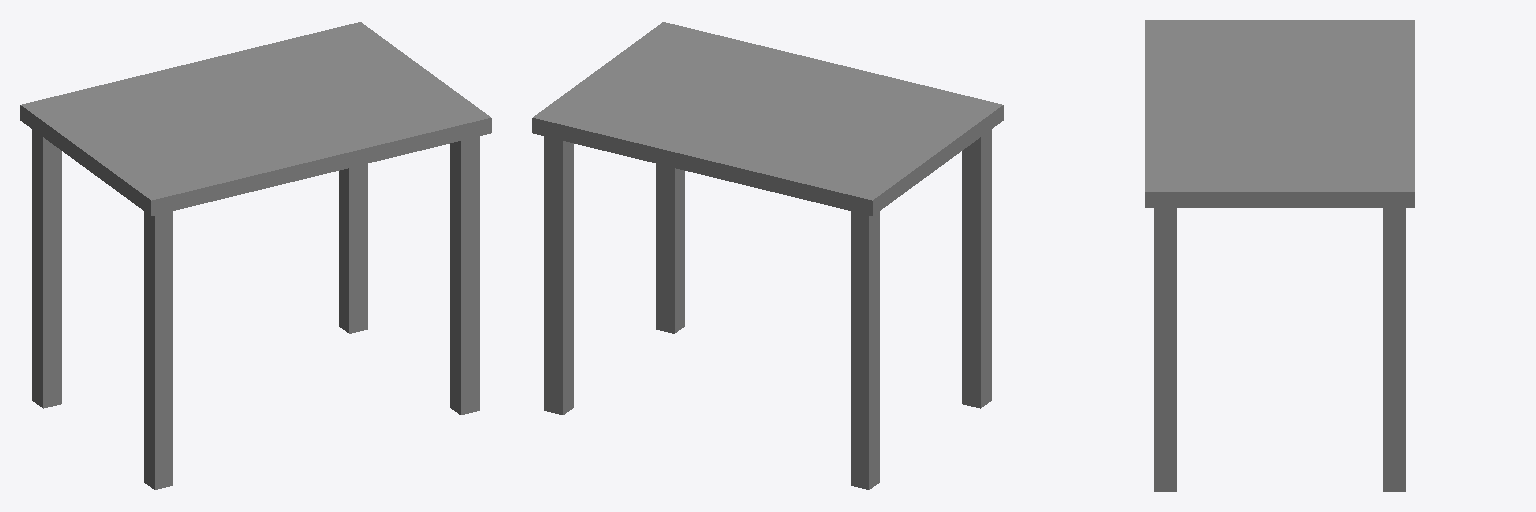
URDF robot description (support.urdf):
<?xml version="1.0" ?>
<robot name="support.urdf">
  <link name="baseLink">
    <inertial>
      <mass value="10.0"/>
      <origin xyz="0 0 0"/>
      <inertia ixx="0.1" ixy="0" ixz="0" iyy="0.1" iyz="0" izz="0.1"/>
    </inertial>
    <contact>
      <lateral_friction value="0.9"/>
      <stiffness value="30000"/>
      <damping value="1000"/>
    </contact>
    <visual>
      <origin rpy="0 0 0" xyz="0 0 0"/>
      <geometry>
        <mesh filename="support.obj" scale="1.0 1.0 1.0"/>
      </geometry>
      <material name="mat">
        <color rgba="0.6 0.6 0.6 1"/>
      </material>
    </visual>
    <collision>
      <origin rpy="0 0 0" xyz="0 0 0"/>
      <geometry>
        <mesh filename="support.obj" scale="1.0 1.0 1.0"/>
      </geometry>
    </collision>
  </link>
</robot>

--- What the picture shows (computed from the rendered views, not written in the file) ---
3 views of the same robot in one strip: view 1: azimuth 30°, elevation 25°; view 2: azimuth 150°, elevation 25°; view 3: azimuth 270°, elevation 25° (orthographic).
Robot: support.urdf — 1 links, 0 joints (none); root link baseLink; default pose: every joint at zero.
Visible links, largest first — view 1: baseLink; view 2: baseLink; view 3: baseLink.
Link boxes in pixels (left/top/right/bottom): baseLink: left=20, top=22, right=491, bottom=489; baseLink: left=532, top=22, right=1003, bottom=489; baseLink: left=1145, top=20, right=1414, bottom=491.
Bounding box of the posed robot: 0.9 × 0.6 × 0.745 m (x, y, z).
Meshes: 1 distinct files referenced, 1 mesh visuals loaded (1 OBJ).
